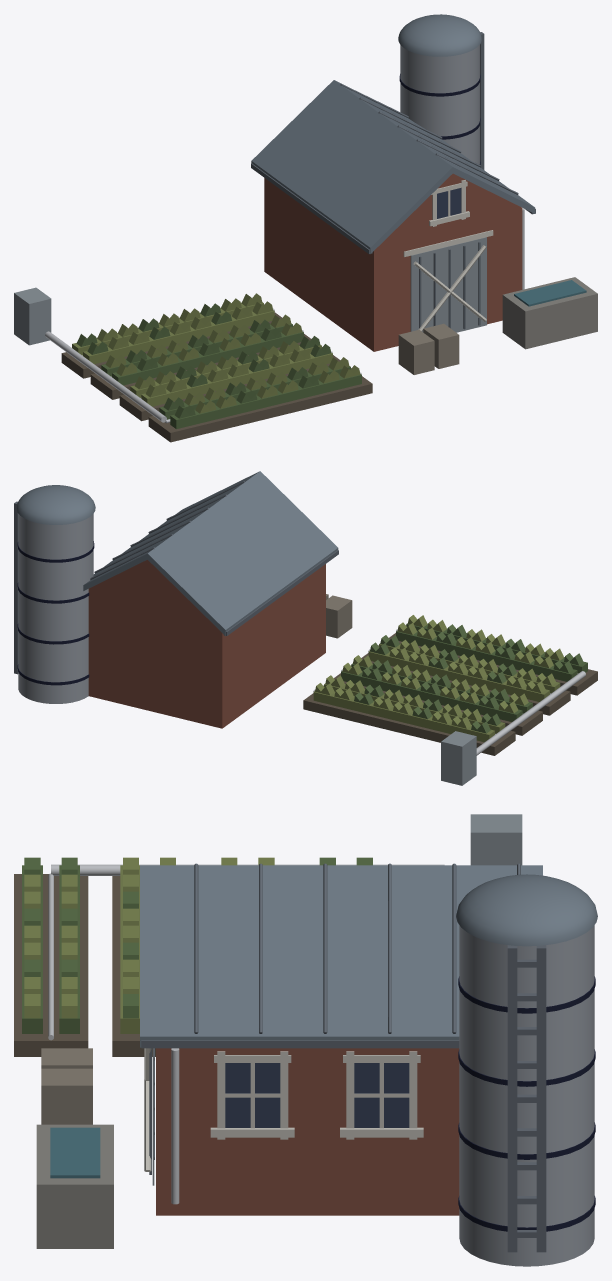
Rendered from farm_lvl2.glb.
3 renders of one model, top to bottom at view 1: azimuth 30°, elevation 25°; view 2: azimuth 150°, elevation 25°; view 3: azimuth 270°, elevation 25°, orthographic. The views are drawn at different scales.
Visible parts, largest first — view 1: farm; view 2: farm; view 3: farm.
Part boxes in pixels (bbox=[...]): farm: bbox=[14, 14, 597, 442]; farm: bbox=[14, 471, 597, 785]; farm: bbox=[14, 814, 597, 1266].
Size of the model in its own units: 1 by 0.4245 by 0.6403.
